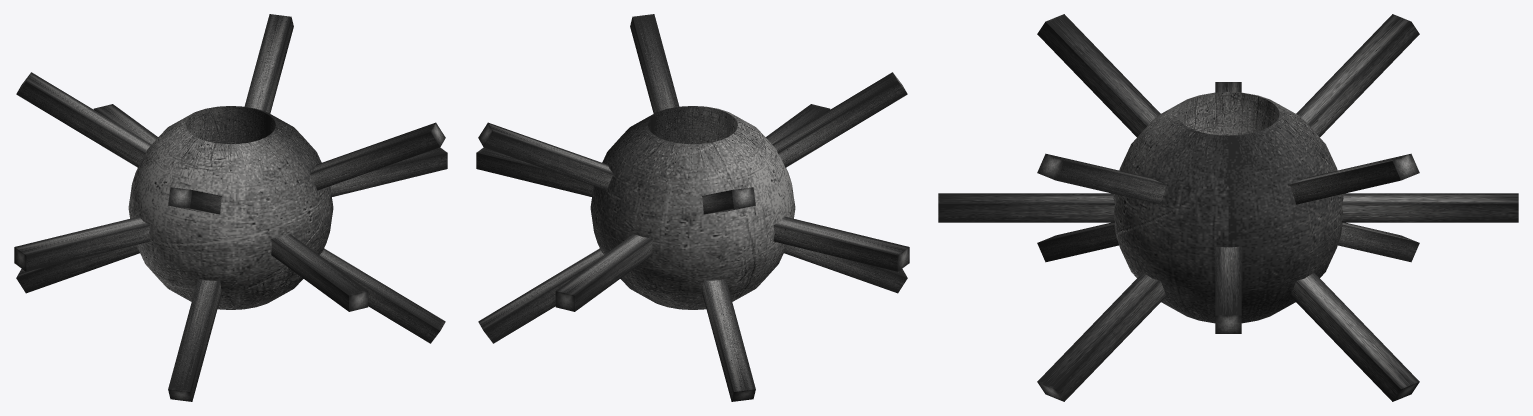
The model's file is Документ 2.fbx.
3 renders of one model, left to right at view 1: azimuth 30°, elevation 25°; view 2: azimuth 150°, elevation 25°; view 3: azimuth 270°, elevation 25°, orthographic. The views are drawn at different scales.
Parts seen in each view (by area): view 1: Булев_1; view 2: Булев_1; view 3: Булев_1.
Boxes of the visible parts, bbox=[...] form: Булев_1: bbox=[14, 14, 447, 401]; Булев_1: bbox=[476, 14, 909, 401]; Булев_1: bbox=[938, 14, 1518, 401].
Size of the model in its own units: 475 by 228 by 499.
1 material, 1 textured.
